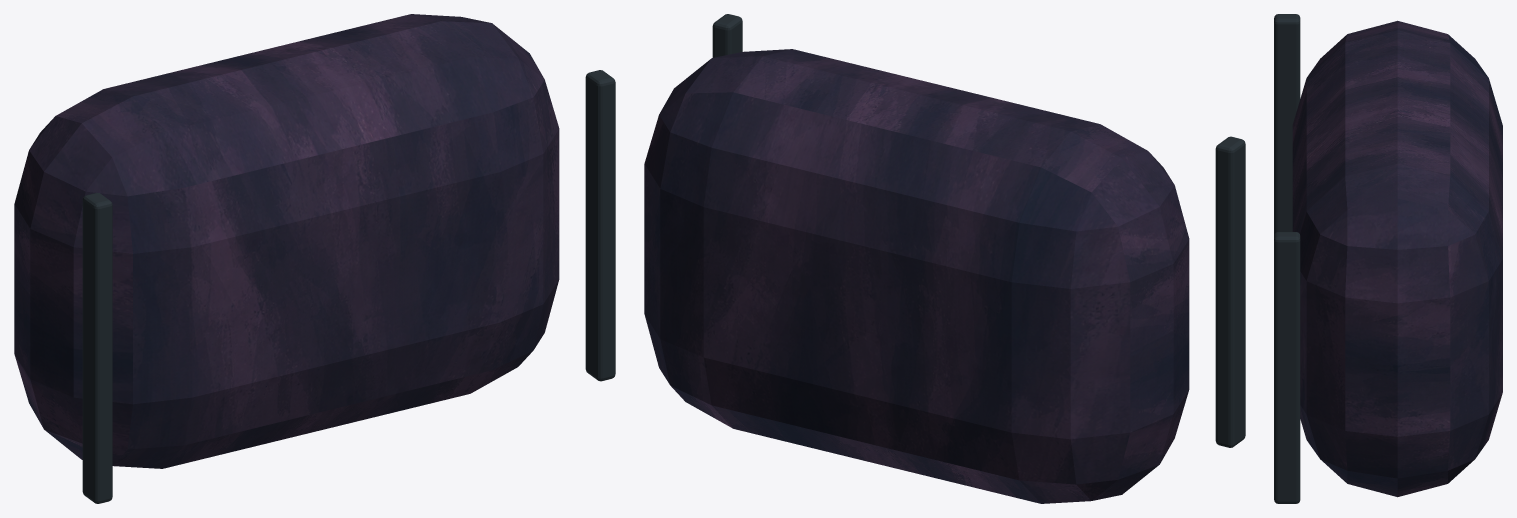
The model's file is APT_Prop_Pillow_Plum.glb.
The picture shows the model from 3 angles, left to right: view 1: azimuth 30°, elevation 25°; view 2: azimuth 150°, elevation 25°; view 3: azimuth 270°, elevation 25°; orthographic projection. The views are drawn at different scales.
Parts seen in each view (by area): view 1: APT_Prop_Pillow_Plum_Cushion, APT_Prop_Pillow_Plum_Seam_-0.245, APT_Prop_Pillow_Plum_Seam_0.245; view 2: APT_Prop_Pillow_Plum_Cushion, APT_Prop_Pillow_Plum_Seam_-0.245, APT_Prop_Pillow_Plum_Seam_0.245; view 3: APT_Prop_Pillow_Plum_Cushion, APT_Prop_Pillow_Plum_Seam_0.245, APT_Prop_Pillow_Plum_Seam_-0.245.
Boxes of the visible parts, x1=… form: APT_Prop_Pillow_Plum_Cushion: x1=14, y1=14, x2=559, y2=468; APT_Prop_Pillow_Plum_Seam_-0.245: x1=82, y1=192, x2=112, y2=503; APT_Prop_Pillow_Plum_Seam_0.245: x1=585, y1=70, x2=615, y2=381; APT_Prop_Pillow_Plum_Cushion: x1=644, y1=49, x2=1189, y2=503; APT_Prop_Pillow_Plum_Seam_-0.245: x1=1215, y1=136, x2=1245, y2=447; APT_Prop_Pillow_Plum_Seam_0.245: x1=712, y1=14, x2=742, y2=57; APT_Prop_Pillow_Plum_Cushion: x1=1292, y1=20, x2=1502, y2=497; APT_Prop_Pillow_Plum_Seam_0.245: x1=1274, y1=232, x2=1300, y2=503; APT_Prop_Pillow_Plum_Seam_-0.245: x1=1274, y1=14, x2=1300, y2=235.
Size of the model in its own units: 0.508 by 0.34 by 0.2175.
2 materials, 1 textured.
